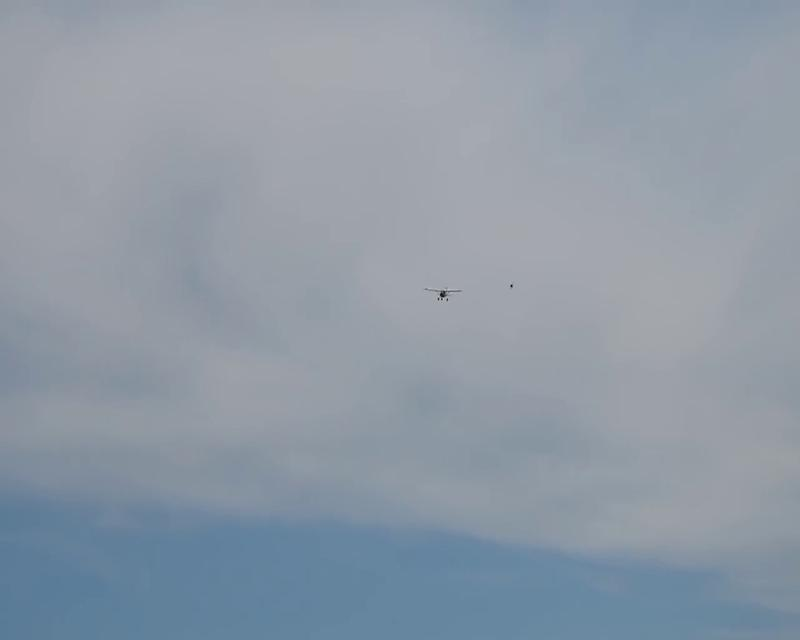UAV: (422, 286, 462, 302)
